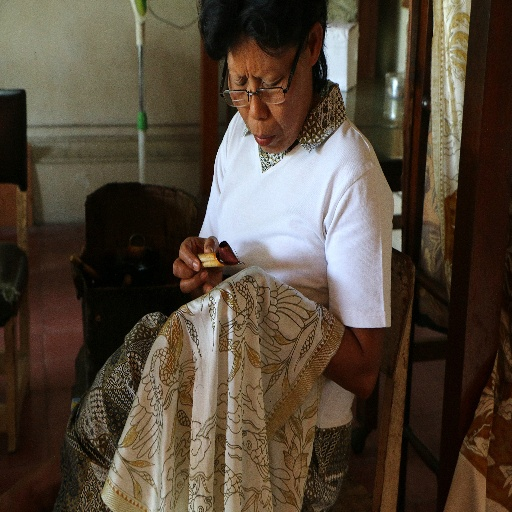hand: (171, 234, 223, 295)
